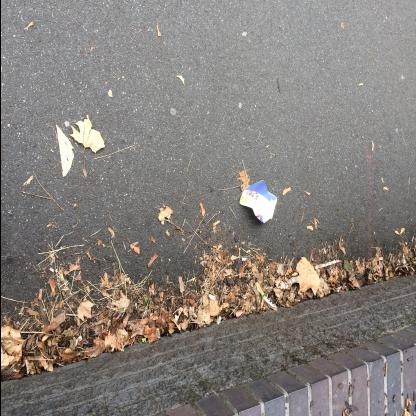kagit: (238, 180, 276, 224)
